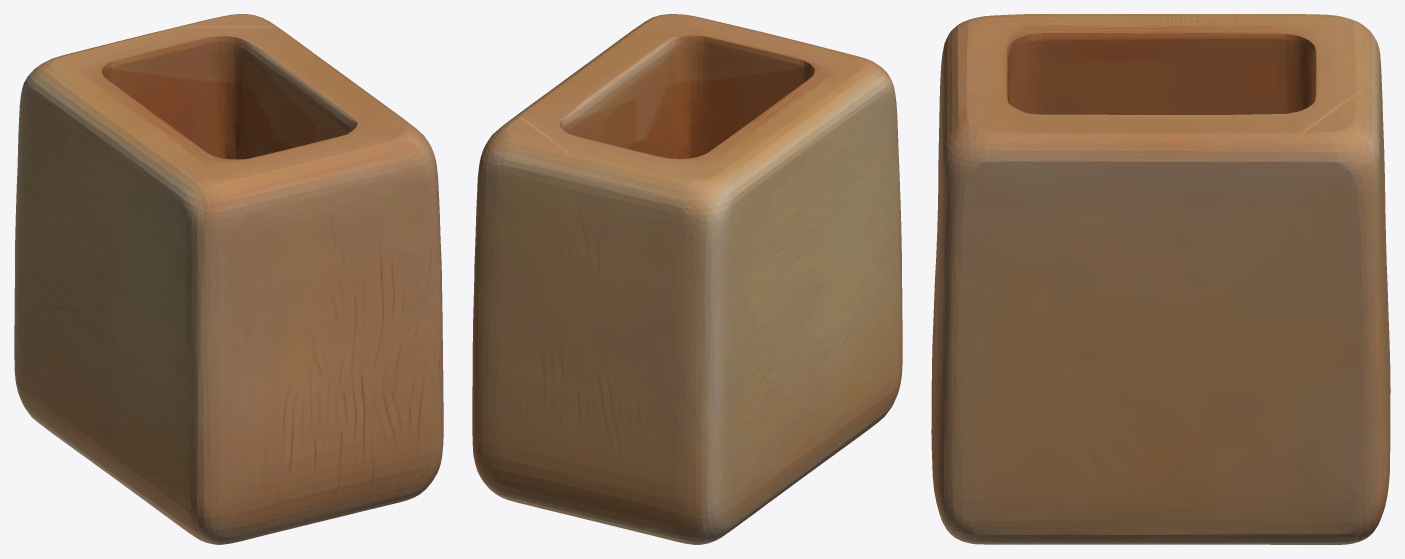
3 views of the same model, side by side, from view 1: azimuth 30°, elevation 25°; view 2: azimuth 150°, elevation 25°; view 3: azimuth 270°, elevation 25° (orthographic). The views are drawn at different scales.
Parts seen in each view (by area): view 1: pen_holder_33.obj; view 2: pen_holder_33.obj; view 3: pen_holder_33.obj.
Part boxes in pixels (x1=…): pen_holder_33.obj: x1=14, y1=14, x2=443, y2=544; pen_holder_33.obj: x1=472, y1=14, x2=902, y2=544; pen_holder_33.obj: x1=931, y1=14, x2=1390, y2=544.
Bounding box in the file's own units: 0.0783 × 0.11 × 0.1085.
Materials: 1 (1 with a texture image).
